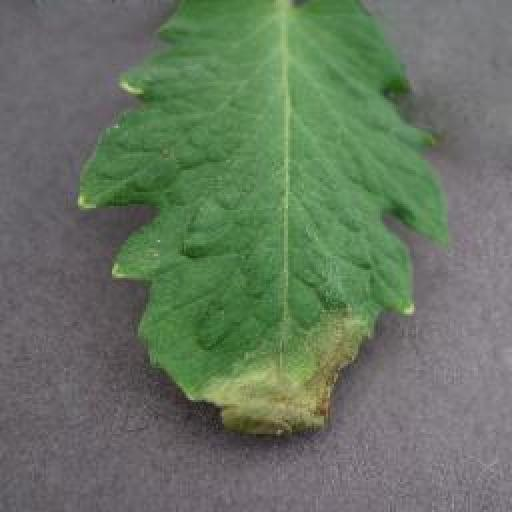disease_tomato: (74, 0, 456, 450)
